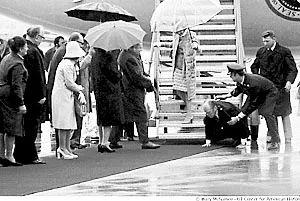10+: (1, 9, 299, 169)
down: (197, 98, 250, 153)
